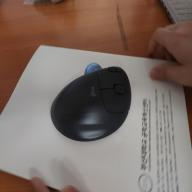mouse: (51, 62, 133, 142)
